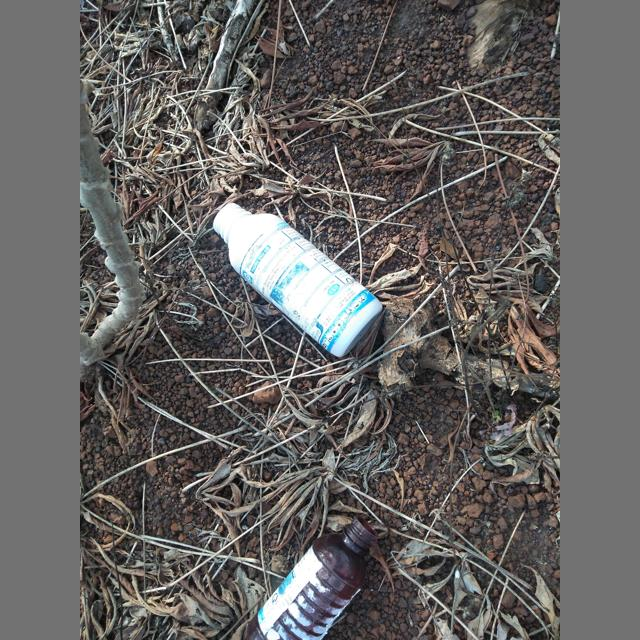litter: (213, 203, 382, 357), (247, 516, 379, 640)
